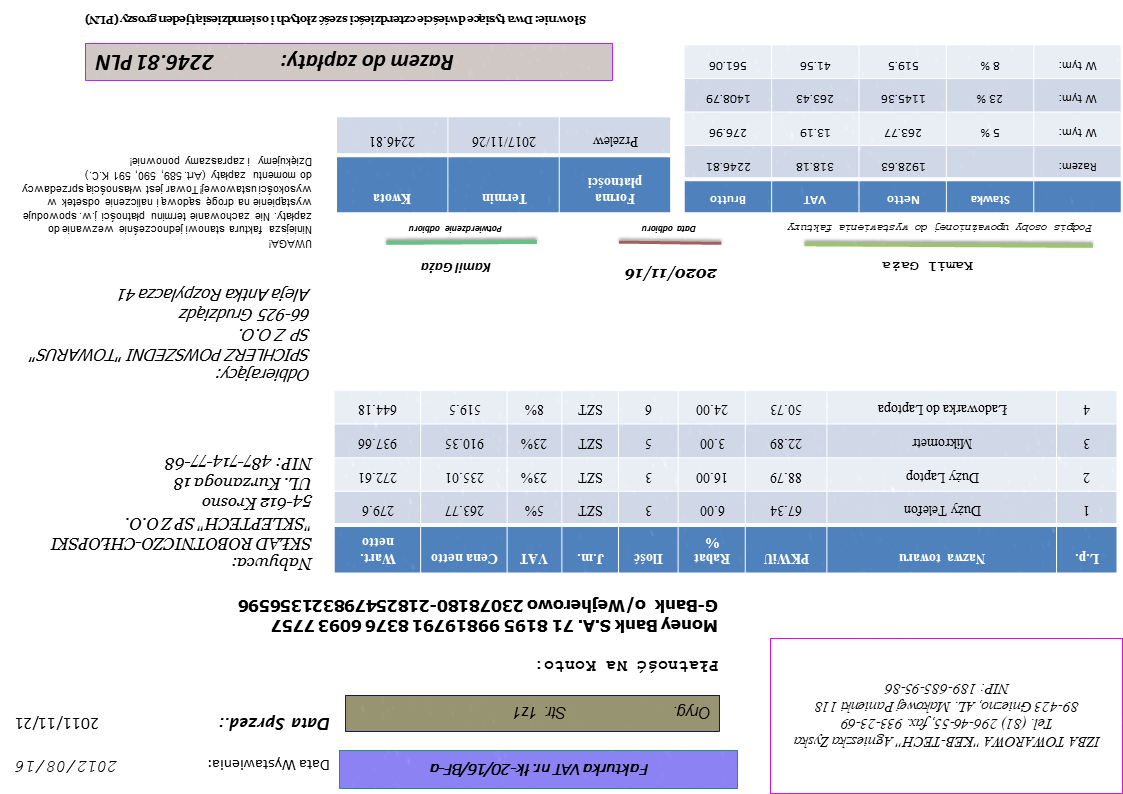Table: (334, 389, 1119, 576), (684, 45, 1122, 214), (336, 116, 672, 215)
TextBox: (48, 451, 316, 575), (23, 283, 314, 386), (17, 153, 316, 253), (792, 679, 1103, 755), (235, 594, 721, 638), (92, 49, 458, 76), (83, 11, 590, 30), (785, 219, 1095, 237), (426, 758, 654, 780), (510, 701, 713, 724), (535, 655, 723, 676), (211, 712, 334, 734), (205, 757, 333, 775), (12, 756, 120, 777), (623, 264, 721, 285), (877, 257, 976, 275), (12, 714, 103, 733), (408, 222, 505, 238), (418, 259, 496, 277), (638, 222, 700, 236)
